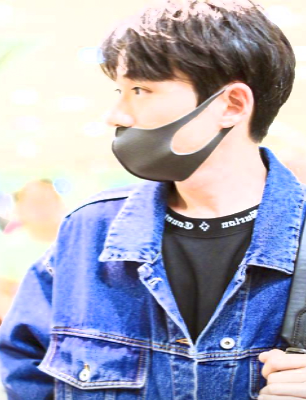mask_weared_incorrect: (105, 72, 213, 182)
